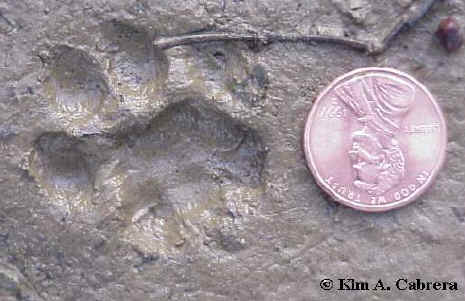cat: (24, 17, 274, 253)
